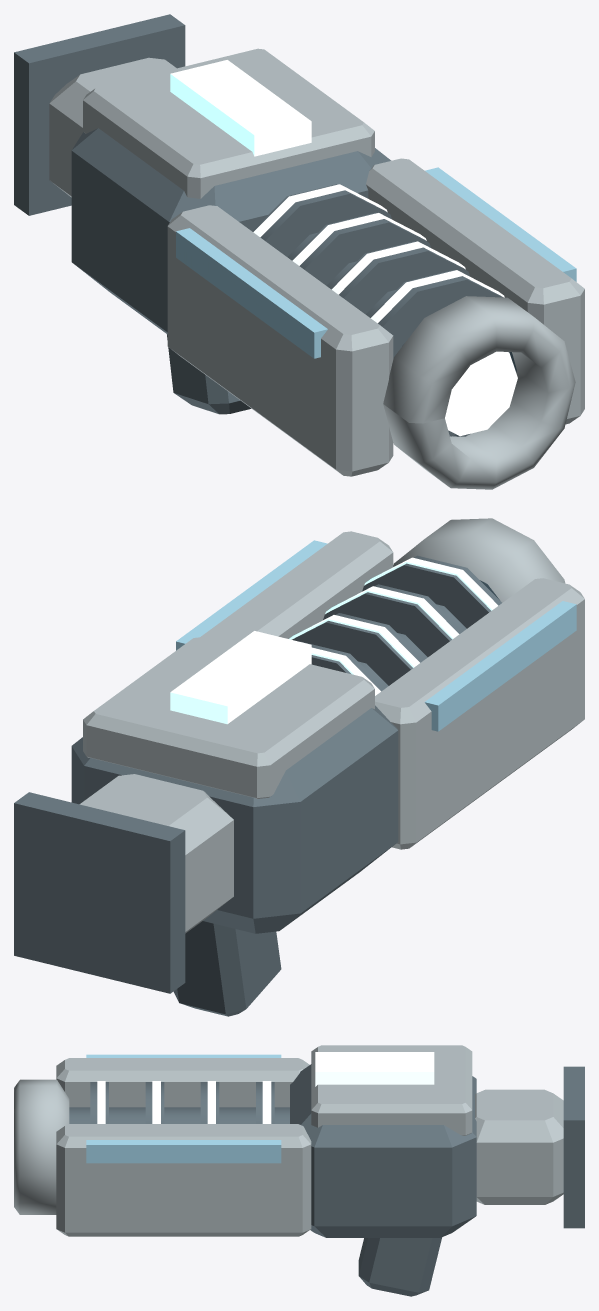
Rendered from photon.glb.
3 renders of one model, top to bottom at view 1: azimuth 30°, elevation 25°; view 2: azimuth 150°, elevation 25°; view 3: azimuth 270°, elevation 25°, orthographic. The views are drawn at different scales.
Parts seen in each view (by area): view 1: static:equipment-steel, static:equipment-dark-steel, charge:equipment-photon-light, static:equipment-rubber, static:equipment-photon; view 2: static:equipment-steel, static:equipment-dark-steel, static:equipment-rubber, charge:equipment-photon-light, static:equipment-photon; view 3: static:equipment-steel, static:equipment-dark-steel, static:equipment-rubber, charge:equipment-photon-light, static:equipment-photon.
Part boxes in pixels (x1,y1,x2,y2): static:equipment-steel: (49,48,584,489); static:equipment-dark-steel: (71,128,512,436); charge:equipment-photon-light: (170,60,517,436); static:equipment-rubber: (14,14,251,414); static:equipment-photon: (176,167,576,358); static:equipment-steel: (79,518,584,933); static:equipment-dark-steel: (71,555,501,933); static:equipment-rubber: (14,792,281,1016); charge:equipment-photon-light: (170,557,498,724); static:equipment-photon: (176,540,576,731); static:equipment-steel: (14,1045,563,1236); static:equipment-dark-steel: (69,1064,476,1237); static:equipment-rubber: (358,1066,584,1296); charge:equipment-photon-light: (97,1052,434,1123); static:equipment-photon: (86,1054,281,1163).
Size of the model in its own units: 0.252 by 0.2958 by 0.6725.
